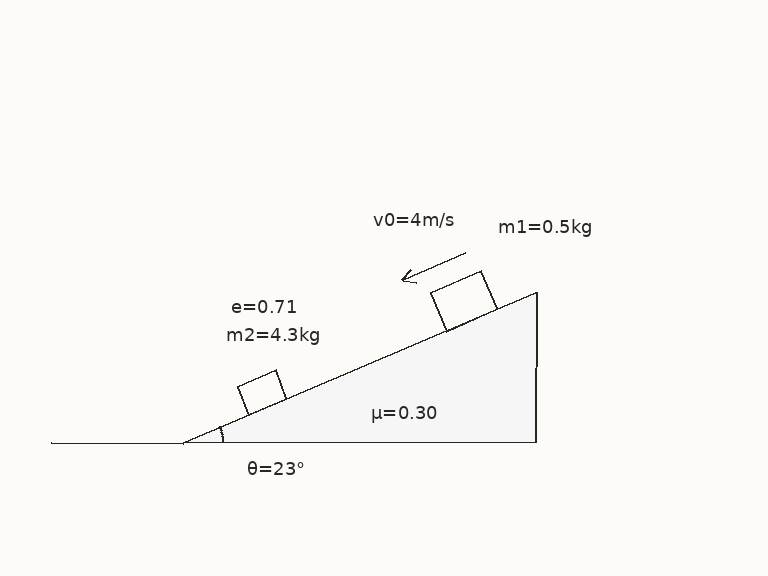block: (428, 269, 499, 332), (234, 368, 289, 416)
ramp: (181, 290, 538, 444)
